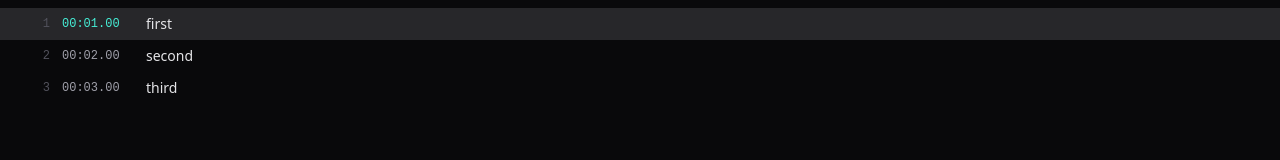
Test case: a lyric row › a line added below the cursor opens for typing straight away
The image size is (1280, 160).
Press the mouse on the option "1 00:01.00 first" at (46, 24), box 0,8 -> 1279,40
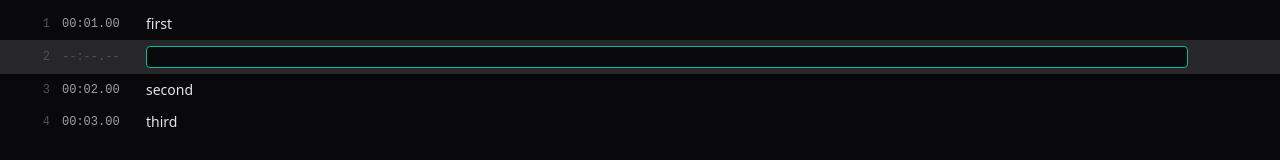
Type "a line of my own" into the field at (667, 57), box 146,46 -> 1188,68
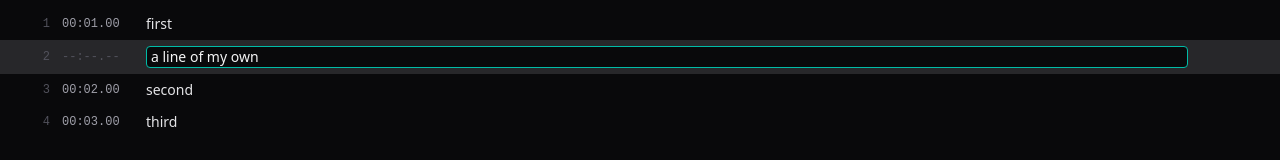
Press Enter in the field, box 146,46 -> 1188,68
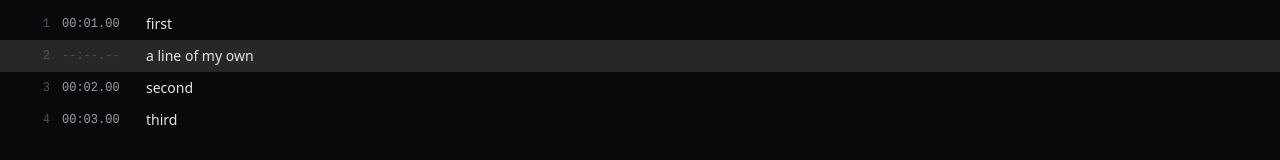
Now the field is gone
